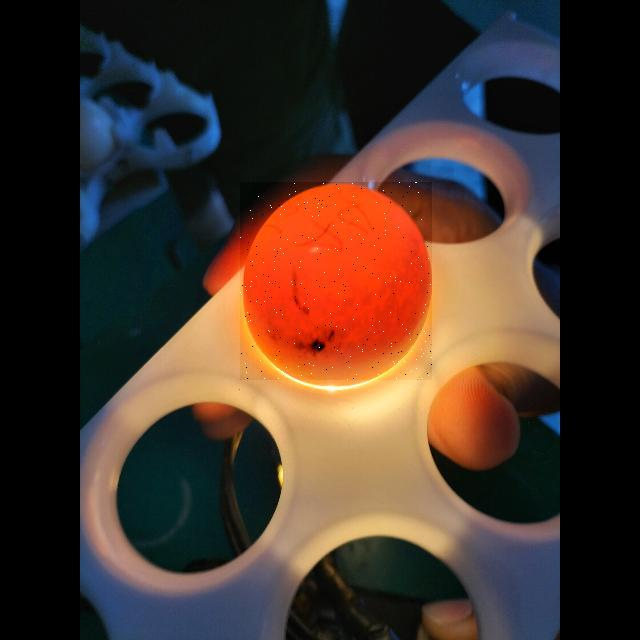Infertile: (240, 182, 432, 380)
